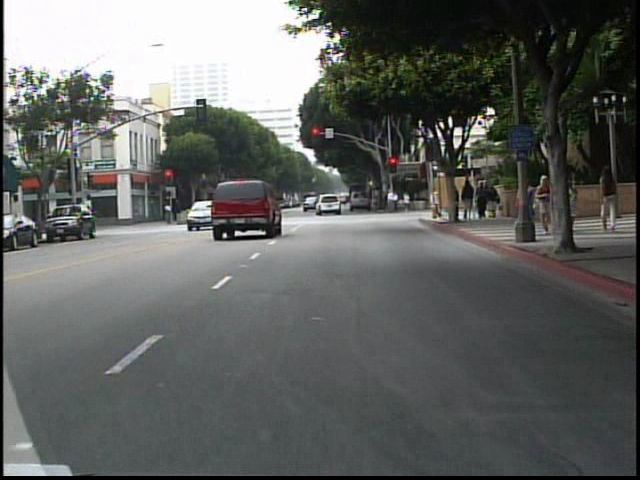person: (597, 164, 621, 233), (533, 173, 553, 238), (567, 173, 586, 236), (460, 177, 477, 223), (430, 187, 445, 220), (164, 201, 176, 229)
